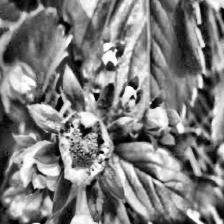Blossom Blight: (57, 113, 113, 183)
